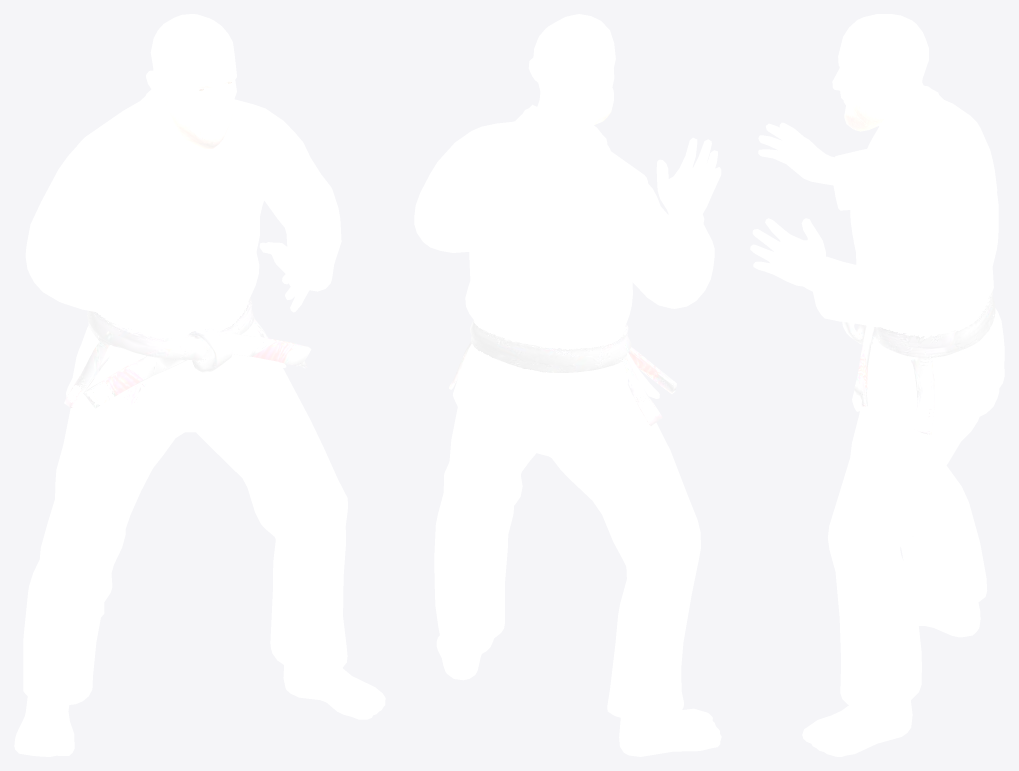
Rendered from statue_mestre.glb.
The picture shows the model from 3 angles, left to right: view 1: azimuth 30°, elevation 25°; view 2: azimuth 150°, elevation 25°; view 3: azimuth 270°, elevation 25°; orthographic projection. The views are drawn at different scales.
Parts seen in each view (by area): view 1: Mesh_0; view 2: Mesh_0; view 3: Mesh_0.
Boxes of the visible parts, x1=… form: Mesh_0: x1=14, y1=14, x2=385, y2=756; Mesh_0: x1=414, y1=14, x2=721, y2=756; Mesh_0: x1=750, y1=14, x2=1004, y2=756.
Size of the model in its own units: 0.9051 by 1.85 by 0.6404.
Materials: 1 (1 with a texture image).
